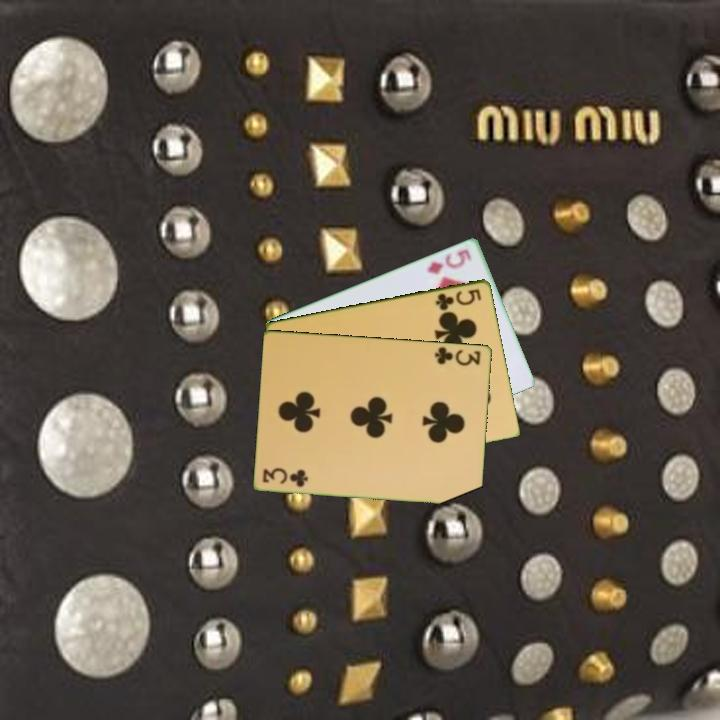3c: (431, 343, 484, 368), (259, 465, 311, 490)
5c: (432, 285, 484, 313)
5d: (423, 245, 475, 277)
